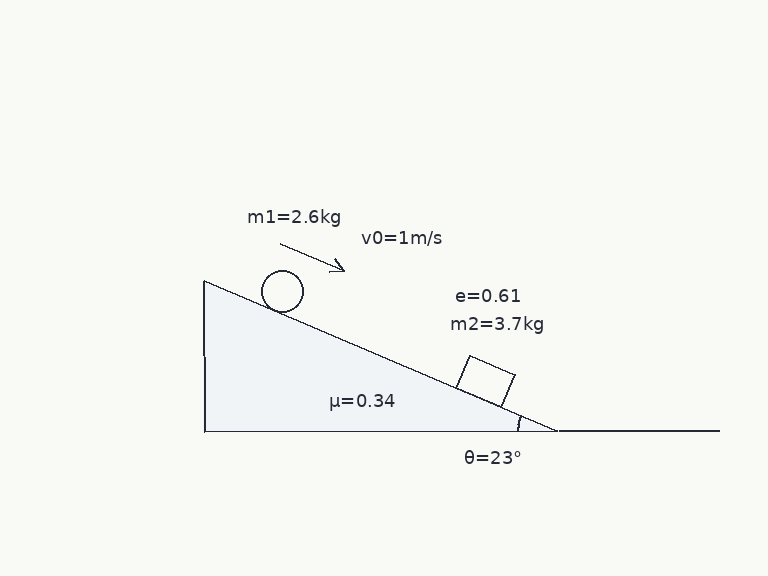ball: (259, 268, 305, 314)
block: (454, 353, 516, 409)
ramp: (202, 279, 560, 433)
